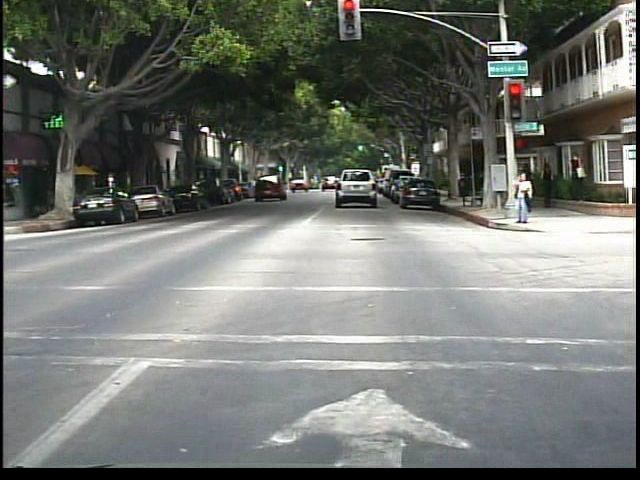person: (508, 168, 535, 226), (566, 149, 591, 203), (538, 158, 561, 216), (518, 157, 537, 208)
